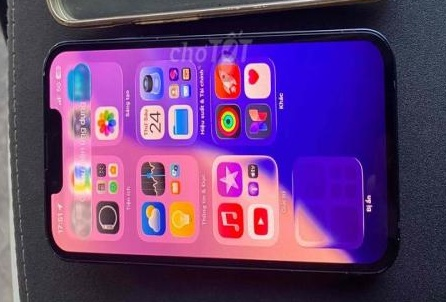scratch: (38, 44, 60, 269), (381, 58, 405, 257)
